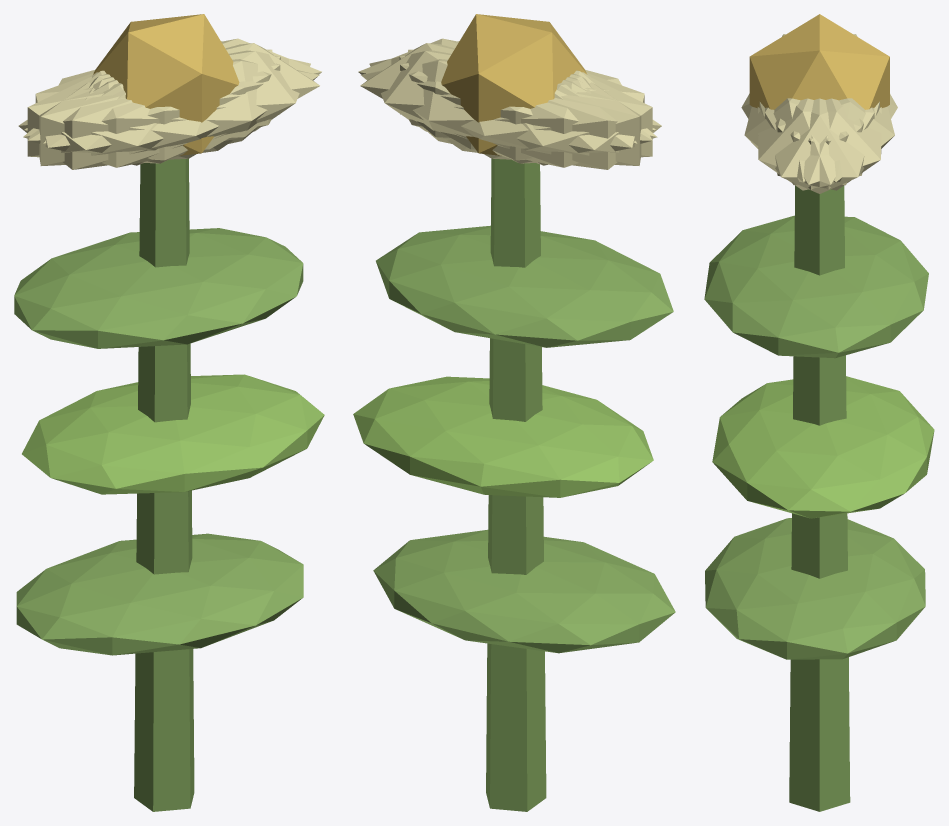
Rendered from syzygium-malaccense.glb.
3 renders of one model, left to right at view 1: azimuth 30°, elevation 25°; view 2: azimuth 150°, elevation 25°; view 3: azimuth 270°, elevation 25°, orthographic.
Visible parts, largest first — view 1: leaf2, leaf0, leaf1, stem, center, petal1, petal6, petal2, petal5, petal7, petal0, petal4 (+2 smaller); view 2: leaf2, leaf1, leaf0, stem, center, petal8, petal3, petal7, petal4, petal2, petal0, petal5 (+2 smaller); view 3: leaf1, leaf2, leaf0, stem, center, petal0, petal5, petal4, petal1, petal8.
Boxes of the visible parts, box(x1,y1,x2,y2) form: leaf2: box(14, 228, 303, 348); leaf0: box(16, 533, 303, 655); leaf1: box(22, 374, 324, 494); stem: box(134, 158, 194, 811); center: box(93, 14, 239, 155); petal1: box(23, 59, 319, 167); petal6: box(18, 72, 232, 169); petal2: box(39, 49, 272, 165); petal5: box(43, 50, 310, 160); petal7: box(27, 55, 280, 163); petal0: box(93, 43, 319, 149); petal4: box(24, 38, 321, 140); leaf2: box(376, 225, 673, 347); leaf1: box(353, 376, 653, 497); leaf0: box(373, 529, 675, 653); stem: box(486, 158, 546, 811); center: box(441, 14, 587, 155); petal8: box(361, 59, 657, 167); petal3: box(447, 72, 661, 169); petal7: box(408, 49, 641, 165); petal4: box(369, 50, 637, 160); petal2: box(399, 55, 652, 163); petal0: box(360, 43, 587, 149); petal5: box(358, 38, 655, 140); leaf1: box(712, 376, 934, 518); leaf2: box(704, 215, 928, 358); leaf0: box(705, 518, 925, 659); stem: box(789, 185, 850, 811); center: box(749, 14, 889, 109); petal0: box(759, 98, 879, 193); petal5: box(757, 98, 874, 190); petal4: box(765, 98, 881, 190); petal1: box(744, 98, 863, 182); petal8: box(775, 98, 894, 182).
Size of the model in its own units: 0.1481 by 0.3692 by 0.1006.
